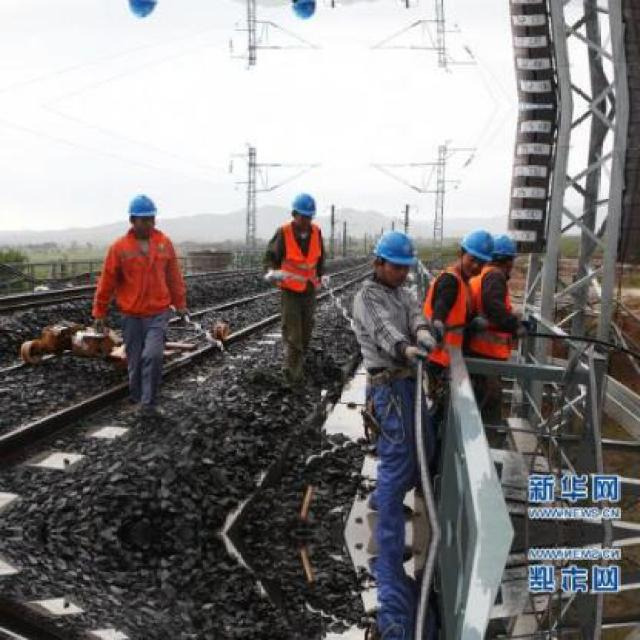helmet: (368, 224, 417, 284), (123, 189, 160, 235), (458, 225, 492, 270), (287, 185, 319, 228), (491, 231, 518, 276), (286, 0, 320, 29), (123, 0, 162, 25)
